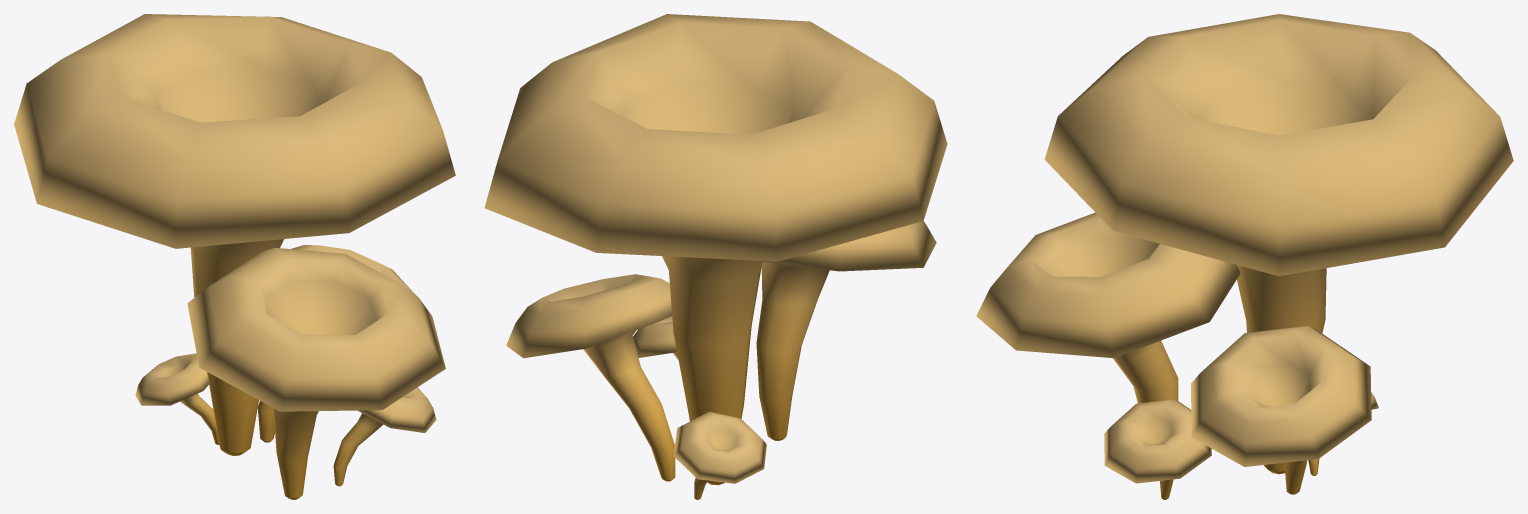
Rendered from lowpolymushroom_04.glb.
The picture shows the model from 3 angles, left to right: view 1: azimuth 30°, elevation 25°; view 2: azimuth 150°, elevation 25°; view 3: azimuth 270°, elevation 25°; orthographic projection. The views are drawn at different scales.
Visible parts, largest first — view 1: lowpolymushroom_04; view 2: lowpolymushroom_04; view 3: lowpolymushroom_04.
Boxes of the visible parts, x1,y1,x2,y2 form: lowpolymushroom_04: [14, 14, 455, 499]; lowpolymushroom_04: [484, 14, 947, 499]; lowpolymushroom_04: [976, 14, 1513, 499].
Bounding box in the file's own units: 0.5043 × 0.4733 × 0.5777.
